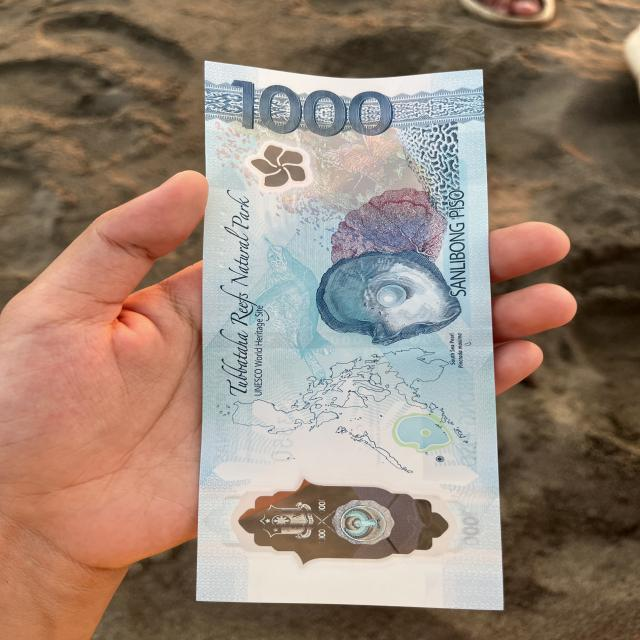clear_window: (204, 462, 486, 572)
sampaguita: (236, 134, 317, 193)
